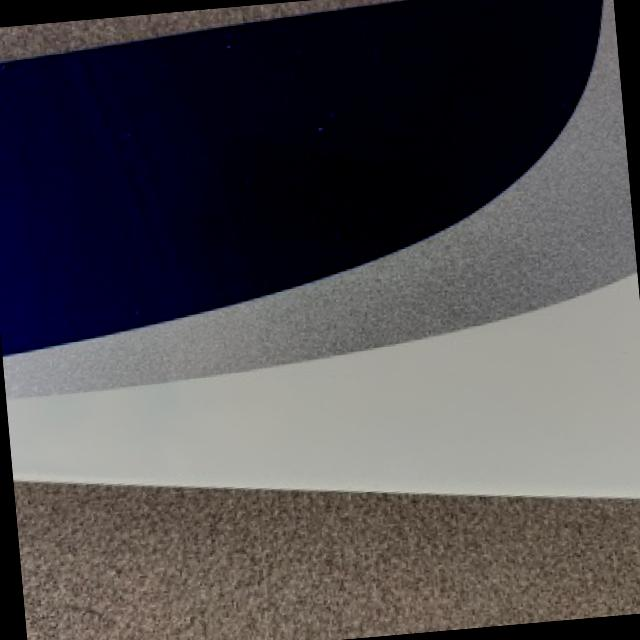healthy: (8, 0, 640, 494), (4, 0, 633, 392)
